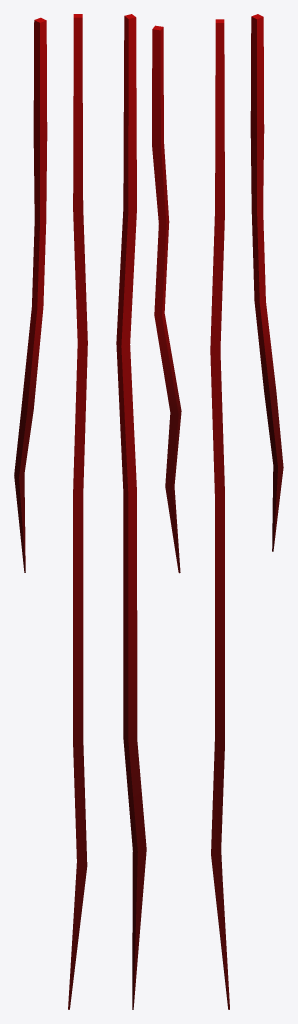
The model's file is SM_Tree_Vines_03.gltf.
The picture shows the model from 3 angles, left to right: view 1: azimuth 90°, elevation 25°; view 2: azimuth 210°, elevation 25°; view 3: azimuth 270°, elevation 25°; orthographic projection.
Parts seen in each view (by area): view 1: SM_Tree_Vines_03; view 2: SM_Tree_Vines_03; view 3: SM_Tree_Vines_03.
Part boxes in pixels (<box>): SM_Tree_Vines_03: <box>14,14,87,1009</box>; SM_Tree_Vines_03: <box>116,14,181,1009</box>; SM_Tree_Vines_03: <box>210,14,283,1009</box>.
Size of the model in its own units: 0.1881 by 5.09 by 0.3416.
